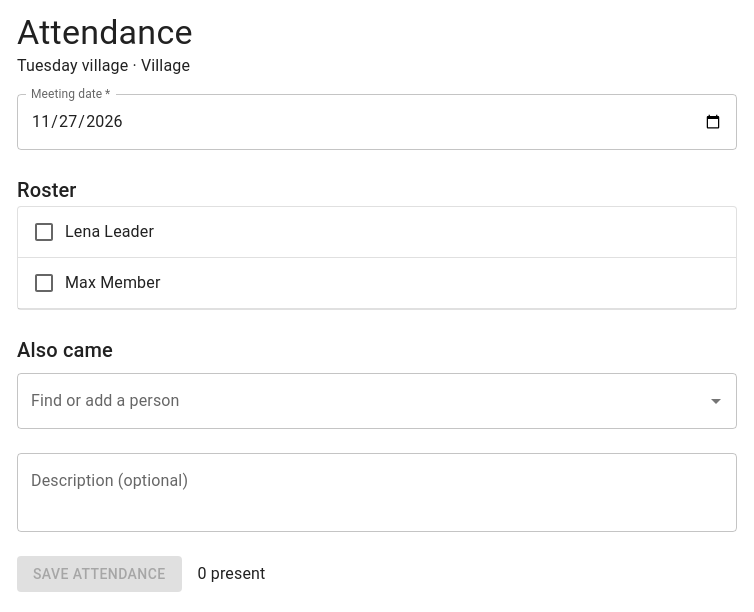
Test: TakeAttendance › TakeAttendance_SaveInFlight_SendsOnlyOneRequest
Click the checkbox labelled "Max Member" at [96, 283], box x1=32 y1=271 x2=160 y2=295
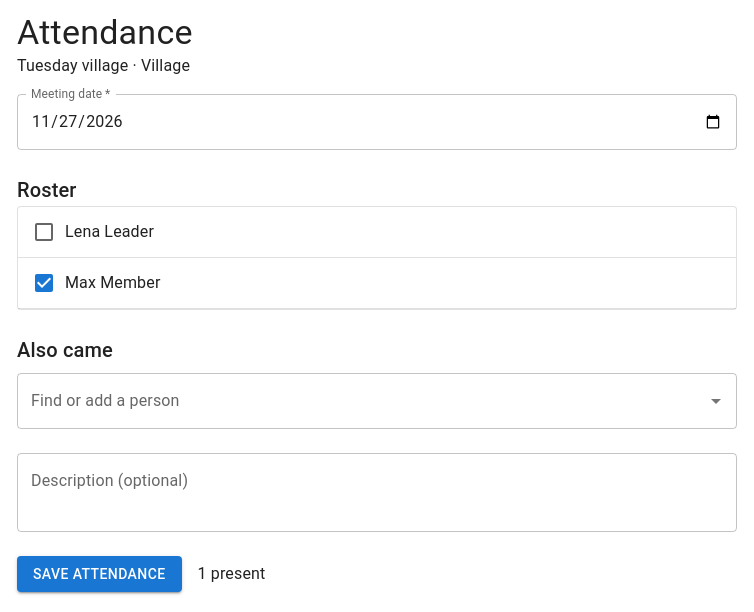
Click the button "Save attendance" at [99, 574], box x1=17 y1=556 x2=182 y2=592
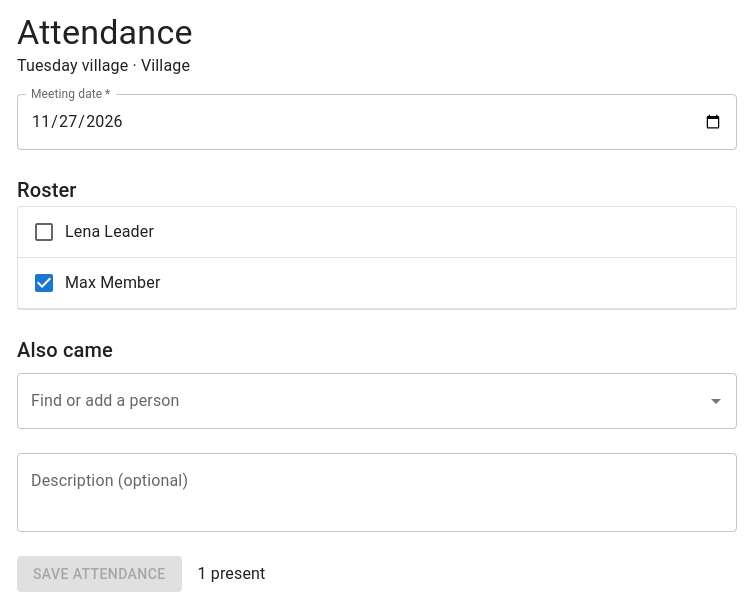
Expected: the button "Save attendance" is disabled, x1=17 y1=556 x2=182 y2=592
